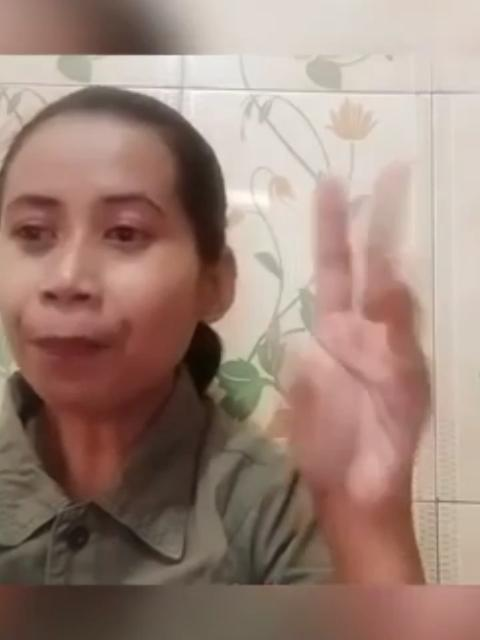U: (271, 156, 441, 509)
